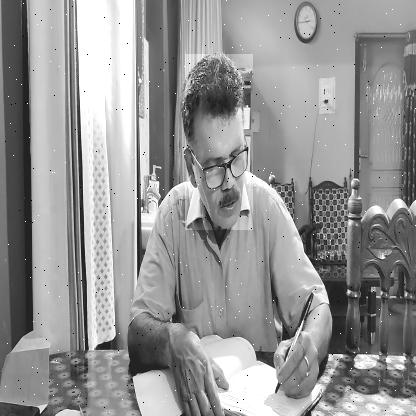Normal: (185, 54, 253, 230)
